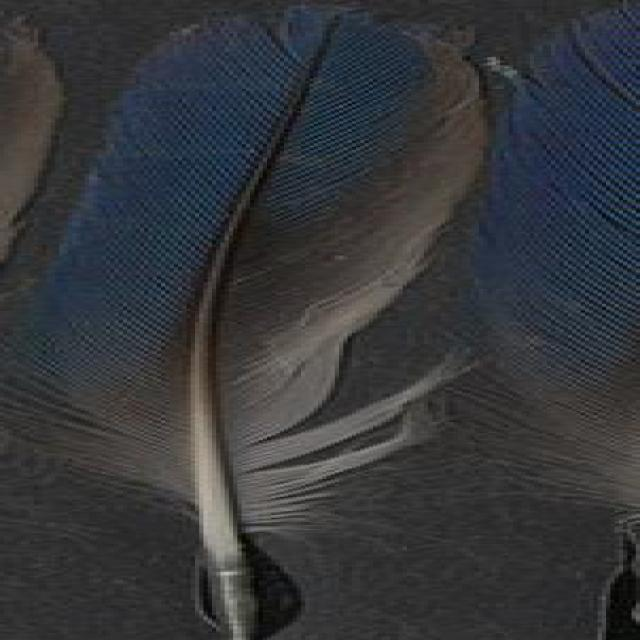feather: (5, 3, 513, 640), (433, 0, 640, 640)
